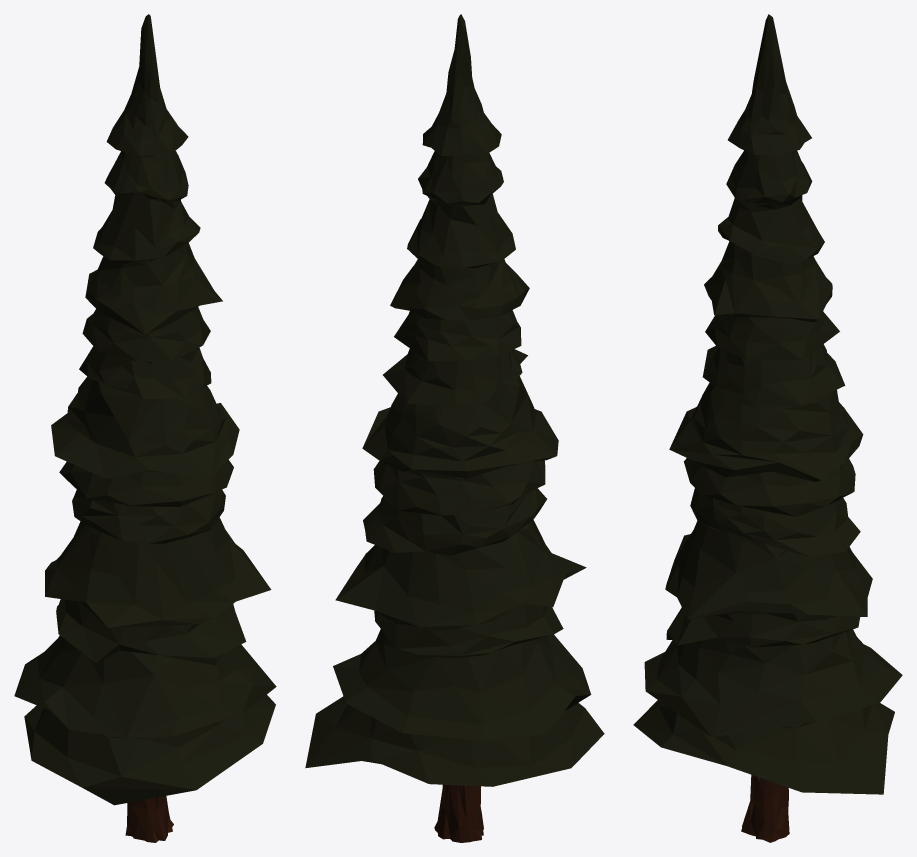
Rendered from elka_1.obj.
3 views of the same model, side by side, from view 1: azimuth 30°, elevation 25°; view 2: azimuth 150°, elevation 25°; view 3: azimuth 270°, elevation 25° (orthographic).
Parts seen in each view (by area): view 1: Cylinder.001; view 2: Cylinder.001; view 3: Cylinder.001.
Part boxes in pixels (x1=…): Cylinder.001: x1=14, y1=14, x2=276, y2=842; Cylinder.001: x1=305, y1=14, x2=604, y2=842; Cylinder.001: x1=633, y1=14, x2=902, y2=842.
Bounding box in the file's own units: 40.24 × 130 × 38.91.
